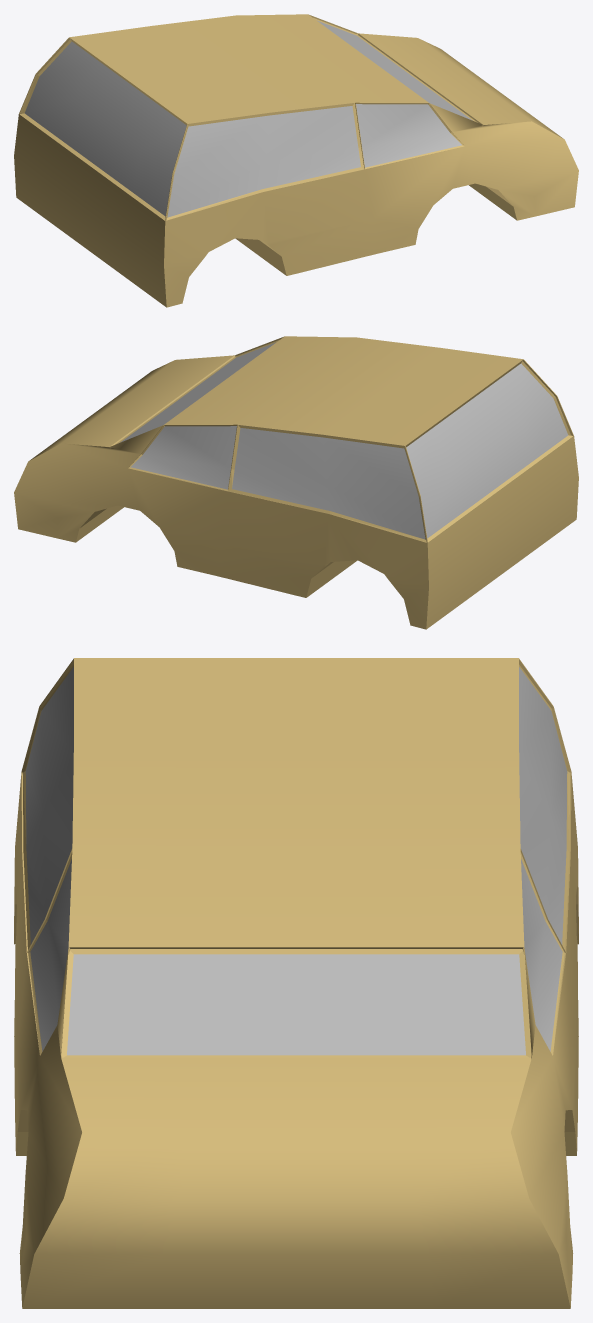
File: chassis.glb
3 views of the same model, one above another, from view 1: azimuth 30°, elevation 25°; view 2: azimuth 150°, elevation 25°; view 3: azimuth 270°, elevation 25° (orthographic). The views are drawn at different scales.
Visible parts, largest first — view 1: chassis; view 2: chassis; view 3: chassis.
Part boxes in pixels (x1=…): chassis: x1=14, y1=14, x2=578, y2=307; chassis: x1=14, y1=336, x2=578, y2=629; chassis: x1=14, y1=658, x2=578, y2=1308.
Size of the model in its own units: 6.68 by 2.5 by 4.15.
